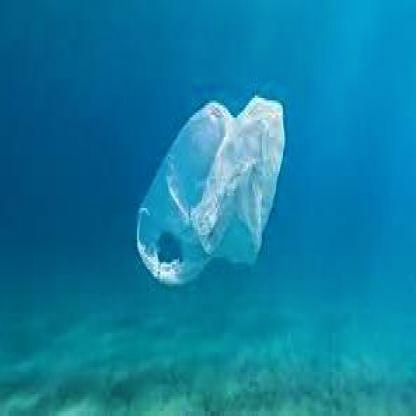pbag: (136, 93, 286, 289)
